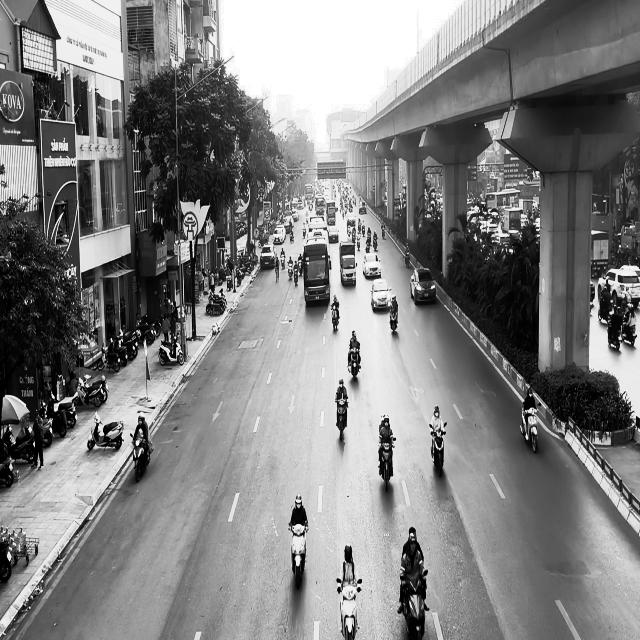car: (410, 267, 436, 304), (370, 278, 392, 311), (362, 252, 381, 278), (260, 243, 276, 269)
motorbike: (400, 570, 427, 639), (336, 579, 362, 639), (87, 412, 124, 450), (288, 521, 308, 589), (129, 432, 154, 482), (520, 403, 541, 453), (429, 422, 447, 476), (378, 437, 396, 491), (335, 396, 348, 440), (348, 344, 360, 381), (389, 307, 398, 334), (331, 304, 339, 332)
